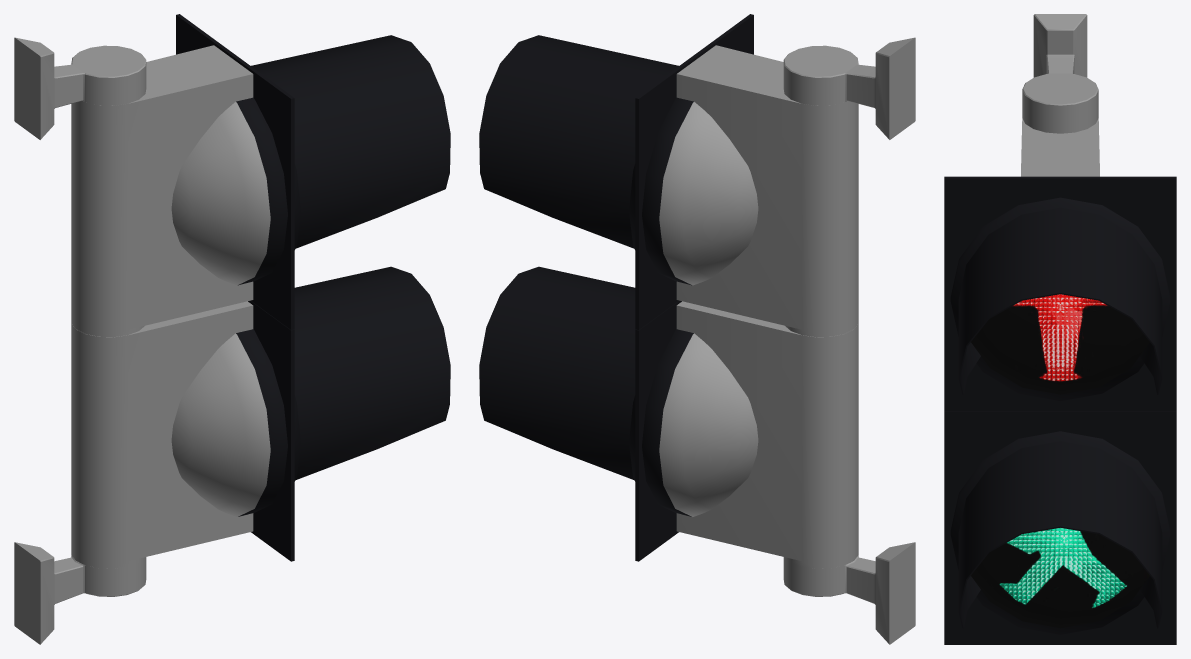
The model's file is Fussgaengerampel_rot_gruen_Mast.glb.
3 views of the same model, side by side, from view 1: azimuth 30°, elevation 25°; view 2: azimuth 150°, elevation 25°; view 3: azimuth 270°, elevation 25° (orthographic).
Parts seen in each view (by area): view 1: Cube.004, Cube.003, Sonnenblende.002, Sonnenblende.001, BezierCurve.018, BezierCurve.020, Masthalterung, Blende.002, Masthalterung.001, Blende.001; view 2: Cube.004, Cube.003, Sonnenblende.002, Sonnenblende.001, BezierCurve.018, BezierCurve.020, Masthalterung, Blende.002, Masthalterung.001, Blende.001; view 3: Blende.002, Blende.001, Sonnenblende.001, Sonnenblende.002, BezierCurve.018, BezierCurve.020, Masthalterung, Cube.004.
Boxes of the visible parts, x1,y1,x2,y2 form: Cube.004: [71, 45, 253, 337]; Cube.003: [71, 301, 253, 568]; Sonnenblende.002: [251, 35, 450, 248]; Sonnenblende.001: [294, 266, 450, 479]; BezierCurve.018: [171, 329, 300, 516]; BezierCurve.020: [171, 97, 300, 285]; Masthalterung: [14, 37, 146, 139]; Blende.002: [176, 14, 294, 329]; Masthalterung.001: [14, 542, 146, 644]; Blende.001: [248, 300, 294, 561]; Cube.004: [676, 45, 858, 337]; Cube.003: [676, 301, 858, 568]; Sonnenblende.002: [479, 35, 678, 248]; Sonnenblende.001: [479, 266, 635, 479]; BezierCurve.018: [629, 329, 758, 516]; BezierCurve.020: [629, 97, 758, 285]; Masthalterung: [783, 37, 915, 139]; Blende.002: [635, 14, 753, 329]; Masthalterung.001: [783, 542, 915, 644]; Blende.001: [635, 300, 681, 561]; Blende.002: [944, 176, 1176, 411]; Blende.001: [944, 411, 1176, 644]; Sonnenblende.001: [958, 441, 1162, 628]; Sonnenblende.002: [958, 207, 1162, 394]; BezierCurve.018: [950, 431, 1170, 634]; BezierCurve.020: [950, 197, 1170, 400]; Masthalterung: [1022, 14, 1098, 133]; Cube.004: [1021, 118, 1099, 176].
Bounding box in the file's own units: 0.4823 × 0.7067 × 0.2502.
4 materials, 4 textured.
